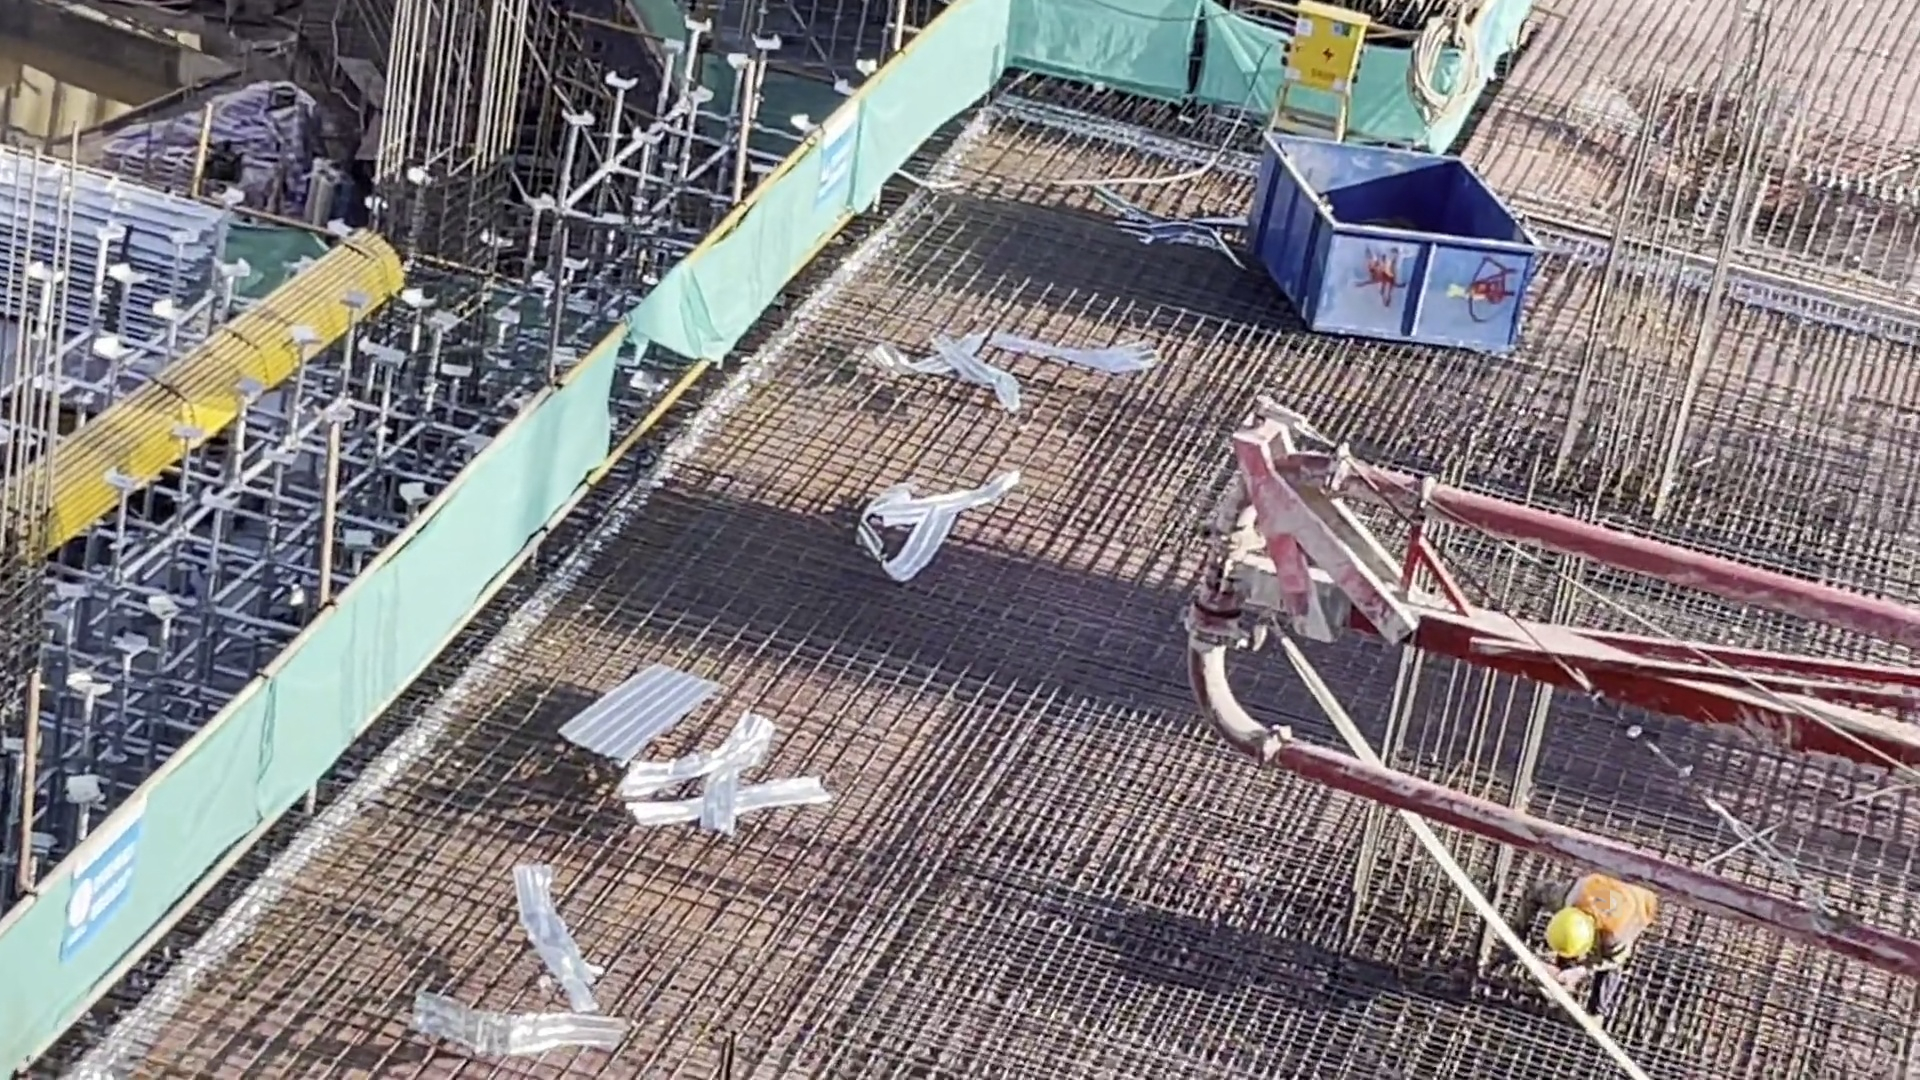ebox: (1280, 8, 1355, 128)
helmet: (1545, 913, 1591, 954)
hopper: (1282, 151, 1541, 354)
person: (1528, 864, 1670, 1038)
scaffold: (1, 170, 218, 331)
vest: (1579, 879, 1667, 940)
